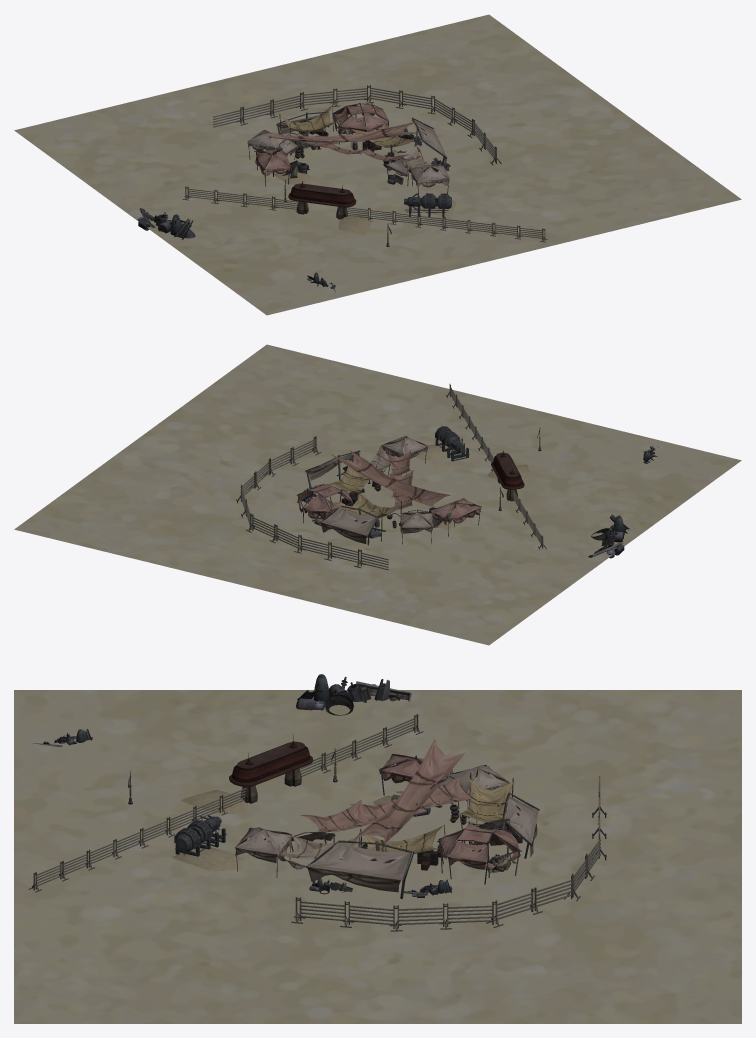
Rendered from env_jak_marketplace_pre.glb.
3 renders of one model, top to bottom at view 1: azimuth 30°, elevation 25°; view 2: azimuth 150°, elevation 25°; view 3: azimuth 270°, elevation 25°, orthographic. The views are drawn at different scales.
Parts seen in each view (by area): view 1: ground_plane_mesh, jak_arch_01_mesh, jak_tent_01a_mesh, jak_tent_01e_mesh, jak_tent_01b_mesh (2), tat_scrappile_03_mesh (3), jak_engine_01_mesh, jak_tent_01h_mesh, jak_tent_01f_mesh, jak_tent_01c_mesh (1), jak_tent_01g_mesh, debrispile_03_mesh (1); view 2: ground_plane_mesh, jak_tent_01b_mesh (2), jak_tent_01c_mesh (3), jak_tent_01a_mesh, jak_tent_01e_mesh, jak_arch_01_mesh, tat_scrappile_03_mesh (3), jak_tent_01h_mesh, jak_engine_01_mesh, jak_tent_01f_mesh, jak_tent_01g_mesh, jak_tent_01f_mesh (1) (+1 smaller); view 3: ground_plane_mesh, jak_tent_01c_mesh (1), jak_tent_01b_mesh (2), jak_arch_01_mesh, jak_tent_01a_mesh, jak_tent_01e_mesh, tat_scrappile_03_mesh (3), jak_tent_01f_mesh, jak_engine_01_mesh, jak_tent_01c_mesh (3), jak_tent_01b_mesh (4), debrispile_03_mesh (+11 smaller).
Part boxes in pixels (left/top/right/bottom): ground_plane_mesh: left=14, top=14, right=741, bottom=315; jak_arch_01_mesh: left=288, top=181, right=356, bottom=219; jak_tent_01a_mesh: left=332, top=102, right=389, bottom=141; jak_tent_01e_mesh: left=391, top=144, right=449, bottom=196; jak_tent_01b_mesh (2): left=263, top=121, right=423, bottom=143; tat_scrappile_03_mesh (3): left=137, top=208, right=195, bottom=239; jak_engine_01_mesh: left=404, top=193, right=451, bottom=216; jak_tent_01h_mesh: left=254, top=148, right=291, bottom=186; jak_tent_01f_mesh: left=279, top=105, right=340, bottom=155; jak_tent_01c_mesh (1): left=411, top=117, right=447, bottom=165; jak_tent_01g_mesh: left=247, top=130, right=291, bottom=159; debrispile_03_mesh (1): left=338, top=214, right=372, bottom=234; ground_plane_mesh: left=14, top=344, right=741, bottom=645; jak_tent_01b_mesh (2): left=331, top=450, right=450, bottom=506; jak_tent_01c_mesh (3): left=320, top=505, right=377, bottom=545; jak_tent_01a_mesh: left=296, top=484, right=353, bottom=523; jak_tent_01e_mesh: left=370, top=436, right=427, bottom=470; jak_arch_01_mesh: left=491, top=450, right=524, bottom=501; tat_scrappile_03_mesh (3): left=588, top=514, right=629, bottom=558; jak_tent_01h_mesh: left=429, top=498, right=481, bottom=536; jak_engine_01_mesh: left=435, top=426, right=469, bottom=461; jak_tent_01f_mesh: left=331, top=492, right=401, bottom=541; jak_tent_01g_mesh: left=400, top=511, right=433, bottom=544; jak_tent_01f_mesh (1): left=327, top=459, right=376, bottom=502; ground_plane_mesh: left=14, top=690, right=741, bottom=1023; jak_tent_01c_mesh (1): left=305, top=840, right=414, bottom=898; jak_tent_01b_mesh (2): left=352, top=739, right=464, bottom=842; jak_arch_01_mesh: left=229, top=735, right=313, bottom=803; jak_tent_01a_mesh: left=437, top=821, right=521, bottom=884; jak_tent_01e_mesh: left=235, top=827, right=361, bottom=877; tat_scrappile_03_mesh (3): left=296, top=674, right=411, bottom=715; jak_tent_01f_mesh: left=459, top=772, right=513, bottom=857; jak_engine_01_mesh: left=174, top=814, right=226, bottom=856; jak_tent_01c_mesh (3): left=502, top=792, right=539, bottom=858; jak_tent_01b_mesh (4): left=300, top=800, right=375, bottom=831; debrispile_03_mesh: left=172, top=847, right=243, bottom=870.
Size of what is drawn, in the model's own units: 107 by 11.6 by 98.38.
16 materials, 16 textured.
